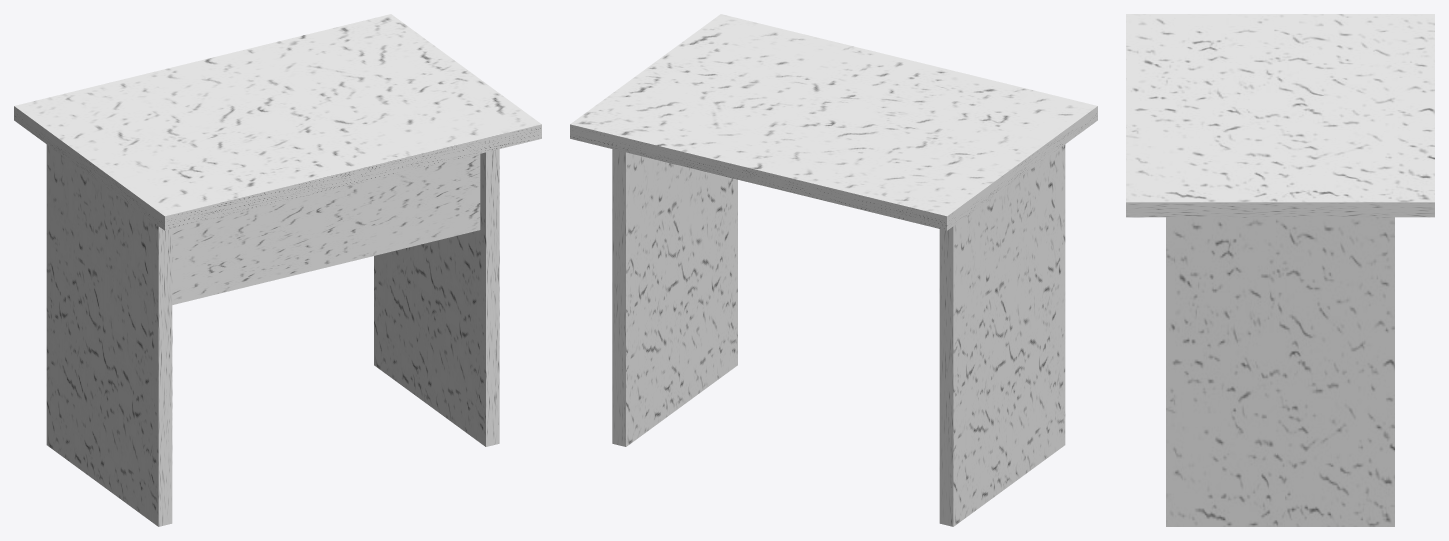
3 renders of one model, left to right at view 1: azimuth 30°, elevation 25°; view 2: azimuth 150°, elevation 25°; view 3: azimuth 270°, elevation 25°, orthographic. The views are drawn at different scales.
Visible parts, largest first — view 1: Cube.005; view 2: Cube.005; view 3: Cube.005.
Part boxes in pixels (<box>): Cube.005: <box>14,14,541,526</box>; Cube.005: <box>570,14,1097,526</box>; Cube.005: <box>1126,14,1434,526</box>.
Size of the model in its own units: 6.85 by 5.7 by 4.74.
Materials: 1 (1 with a texture image).
